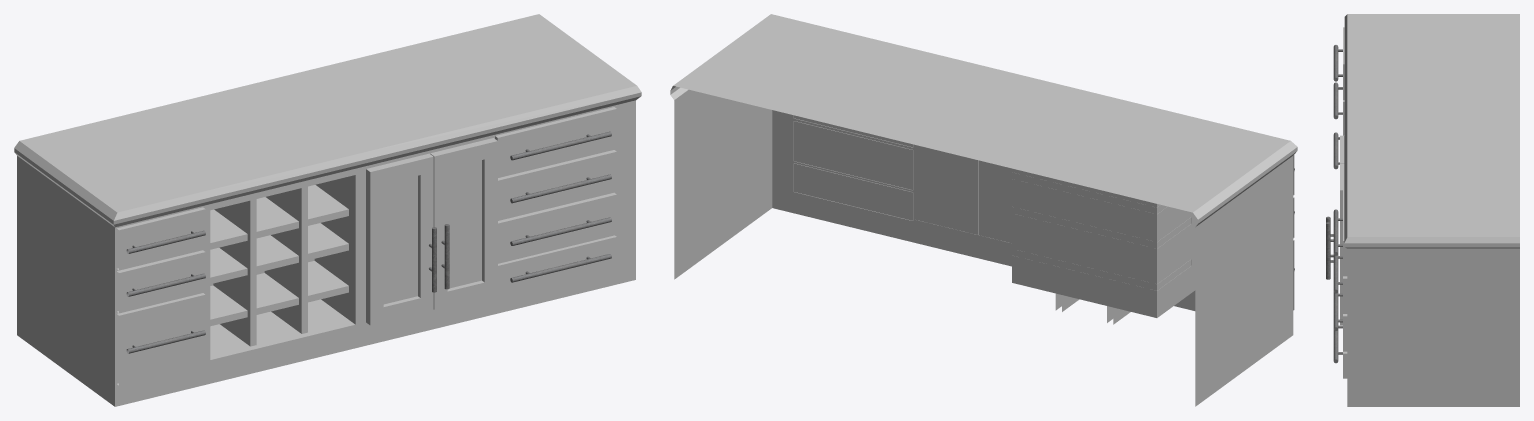
The model's file is SM_Kitchen_Top_2.FBX.
3 views of the same model, side by side, from view 1: azimuth 30°, elevation 25°; view 2: azimuth 150°, elevation 25°; view 3: azimuth 270°, elevation 25° (orthographic). The views are drawn at different scales.
Visible parts, largest first — view 1: SM_Kitchen_Top_2; view 2: SM_Kitchen_Top_2; view 3: SM_Kitchen_Top_2.
Part boxes in pixels (x1=…): SM_Kitchen_Top_2: x1=14, y1=14, x2=641, y2=406; SM_Kitchen_Top_2: x1=670, y1=14, x2=1297, y2=406; SM_Kitchen_Top_2: x1=1326, y1=14, x2=1519, y2=406.
Size of the model in its own units: 2.67 by 0.9359 by 0.9651.
